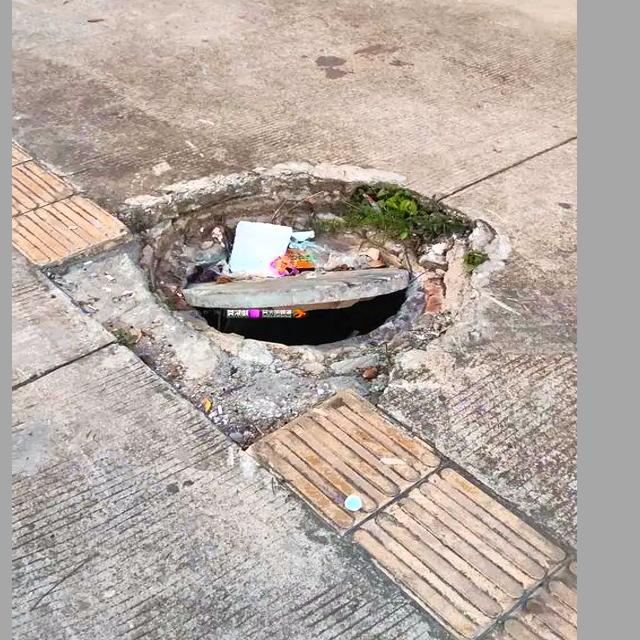circle: (66, 155, 528, 430)
